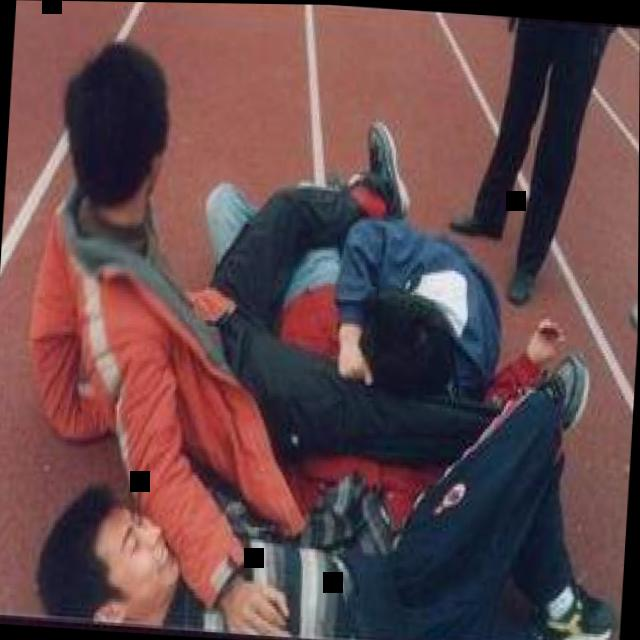Fall-Detected: (30, 255, 639, 640)
